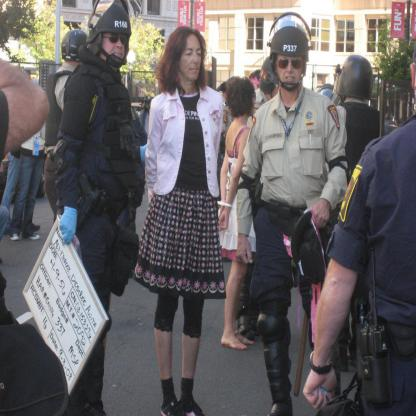face: (177, 31, 202, 81), (277, 44, 303, 90), (101, 32, 126, 69)
